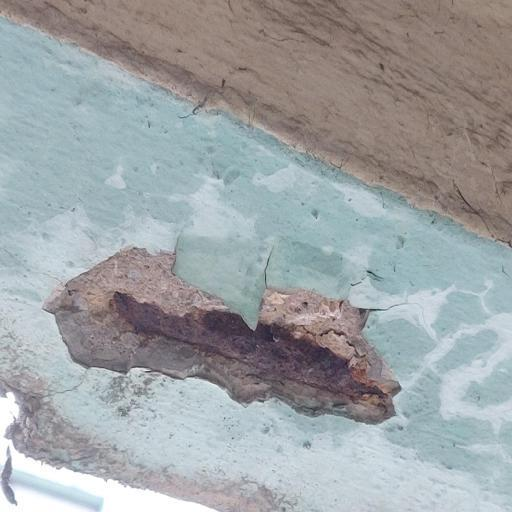exposed_rebar: (109, 292, 388, 402)
spalling: (44, 248, 400, 423)
